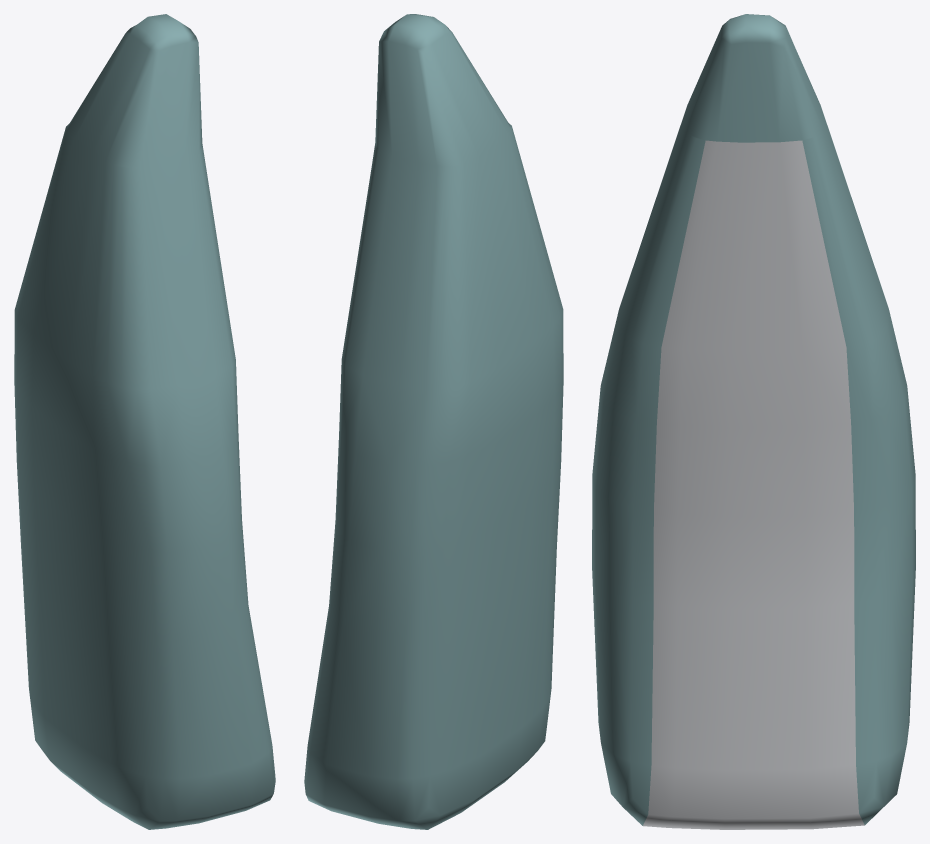
The model's file is Hand_Demo.fbx.
The picture shows the model from 3 angles, left to right: view 1: azimuth 30°, elevation 25°; view 2: azimuth 150°, elevation 25°; view 3: azimuth 270°, elevation 25°; orthographic projection. The views are drawn at different scales.
Parts seen in each view (by area): view 1: Tentacle_Demo; view 2: Tentacle_Demo; view 3: Tentacle_Demo.
Part boxes in pixels (x1,y1,x2,y2): Tentacle_Demo: (14, 14, 275, 829); Tentacle_Demo: (304, 14, 563, 829); Tentacle_Demo: (592, 14, 915, 829).
Bounding box in the file's own units: 5.4 × 21.78 × 8.19.
